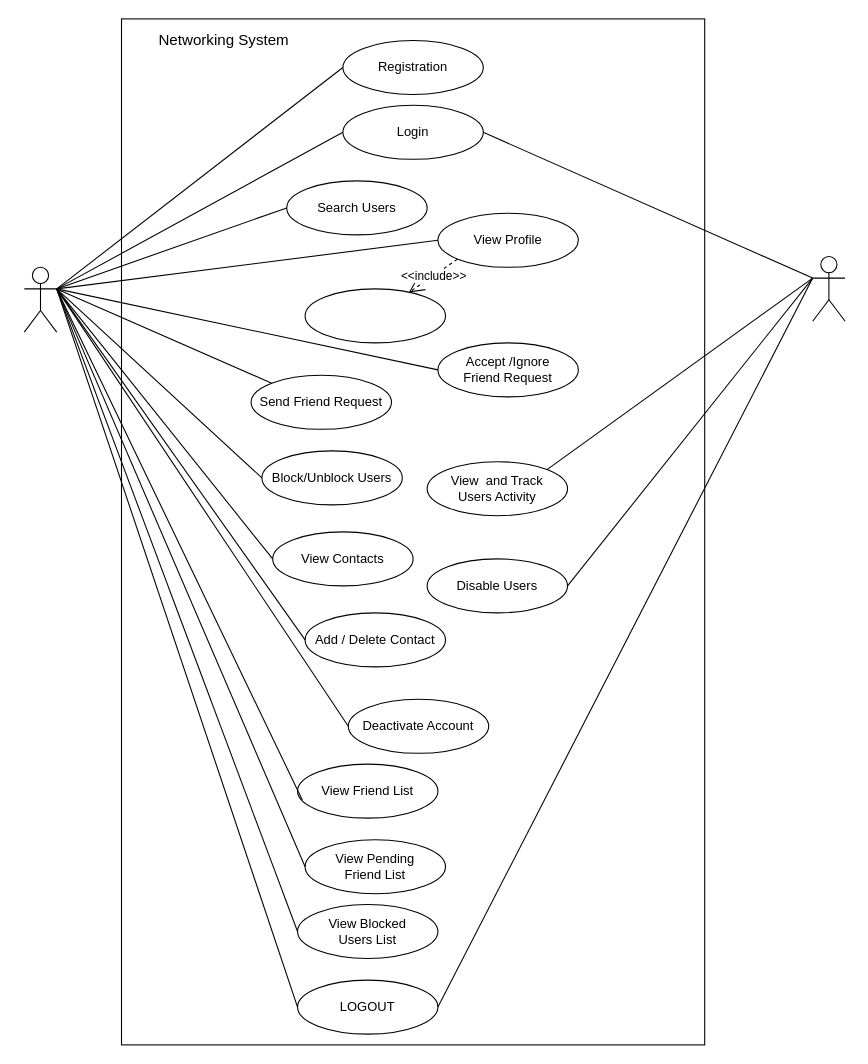
This 868x1064 diagram has some shape labels left out. Here are the shapes that lost their labels. From the top down, the box of each, then its label:
(23, 266, 57, 332): USERS
(812, 255, 845, 321): ADMIN
(304, 288, 446, 343): Update Profile
